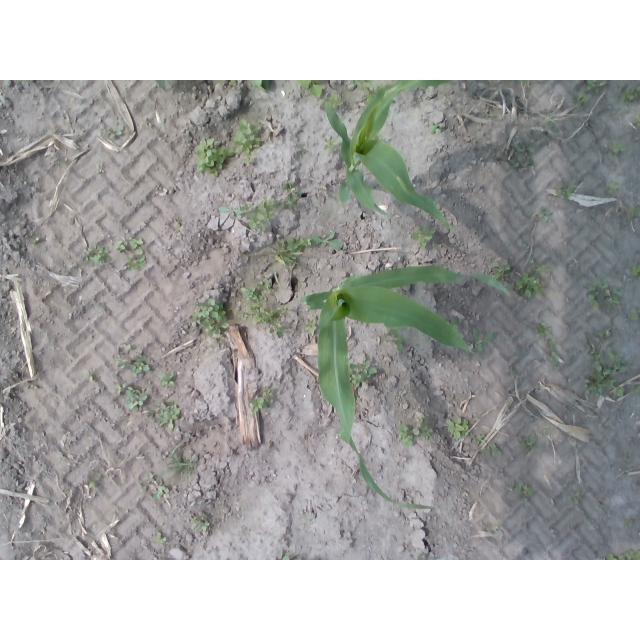Maize: (303, 263, 509, 509), (325, 80, 464, 236)
Weeds: (239, 275, 289, 337), (584, 347, 627, 398), (194, 138, 234, 177), (241, 196, 284, 232), (189, 298, 228, 337), (231, 118, 261, 163), (586, 277, 623, 309), (114, 237, 148, 271), (115, 344, 151, 376), (535, 321, 561, 363), (274, 238, 311, 267), (347, 355, 378, 389), (147, 401, 181, 431), (139, 471, 169, 501), (114, 383, 146, 411), (513, 272, 543, 300), (82, 242, 111, 267), (472, 326, 497, 354), (351, 81, 381, 104), (508, 145, 537, 168), (250, 387, 274, 413), (476, 434, 502, 458), (311, 231, 345, 249), (166, 454, 194, 475), (410, 226, 435, 249), (448, 416, 473, 439), (385, 327, 409, 350), (283, 182, 302, 210), (490, 260, 512, 283), (413, 416, 434, 440), (297, 80, 324, 98), (320, 93, 345, 112), (510, 480, 535, 497), (606, 549, 640, 560), (398, 425, 414, 448), (219, 205, 244, 219), (193, 514, 211, 533), (556, 182, 576, 199), (444, 316, 461, 335), (530, 258, 550, 274), (620, 86, 640, 102), (586, 81, 607, 96), (609, 138, 627, 155), (575, 91, 592, 108), (520, 435, 537, 452), (160, 371, 176, 387), (104, 125, 125, 137), (537, 206, 552, 222), (302, 319, 318, 334), (248, 80, 268, 92), (323, 137, 339, 151), (153, 80, 175, 90), (593, 327, 612, 338), (155, 532, 168, 545), (608, 180, 621, 193), (570, 490, 582, 504), (543, 115, 554, 129), (628, 309, 640, 321), (483, 107, 495, 119), (631, 263, 640, 279), (629, 206, 640, 218), (430, 123, 443, 133), (629, 384, 640, 393), (88, 478, 98, 487), (143, 118, 153, 127), (371, 132, 382, 140), (27, 237, 38, 244), (625, 518, 633, 526), (635, 114, 640, 126), (175, 220, 182, 228), (279, 556, 289, 561), (542, 428, 548, 436), (522, 80, 531, 85), (230, 80, 238, 85)
